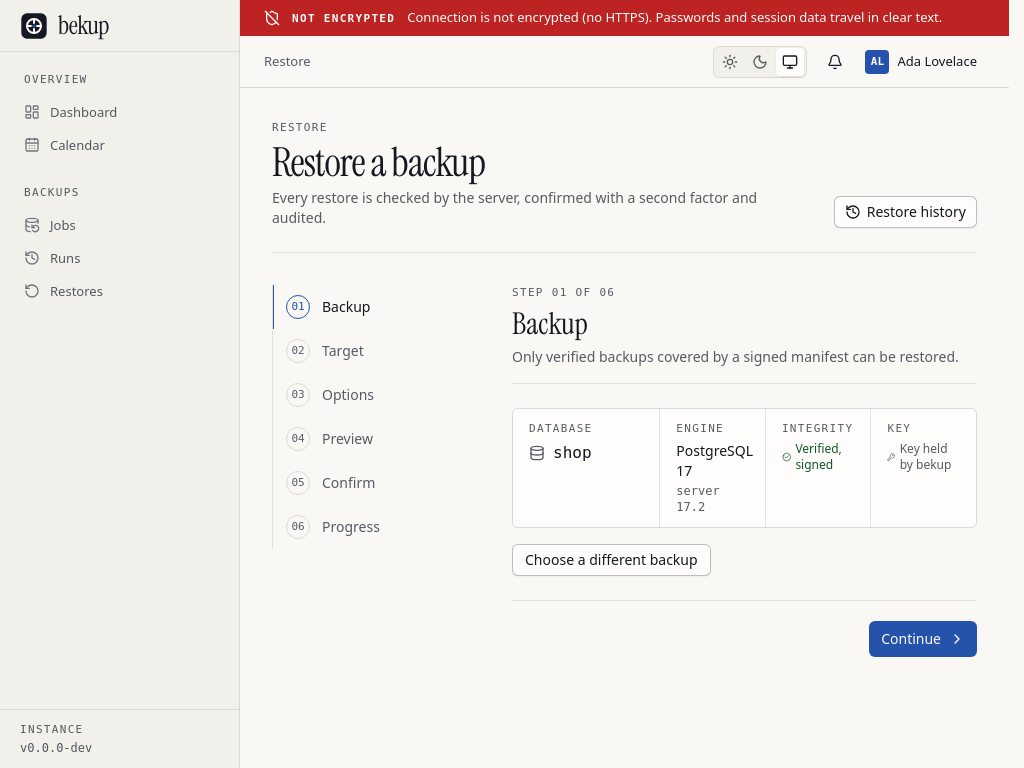
Scenario: restore wizard › shows owners only their allowed targets, without temporary connections
The image size is (1024, 768).
Expected: the text "shop" is shown, [553, 440, 592, 464]
Click the button "Continue" at x=923, y=638, box [869, 620, 977, 656]
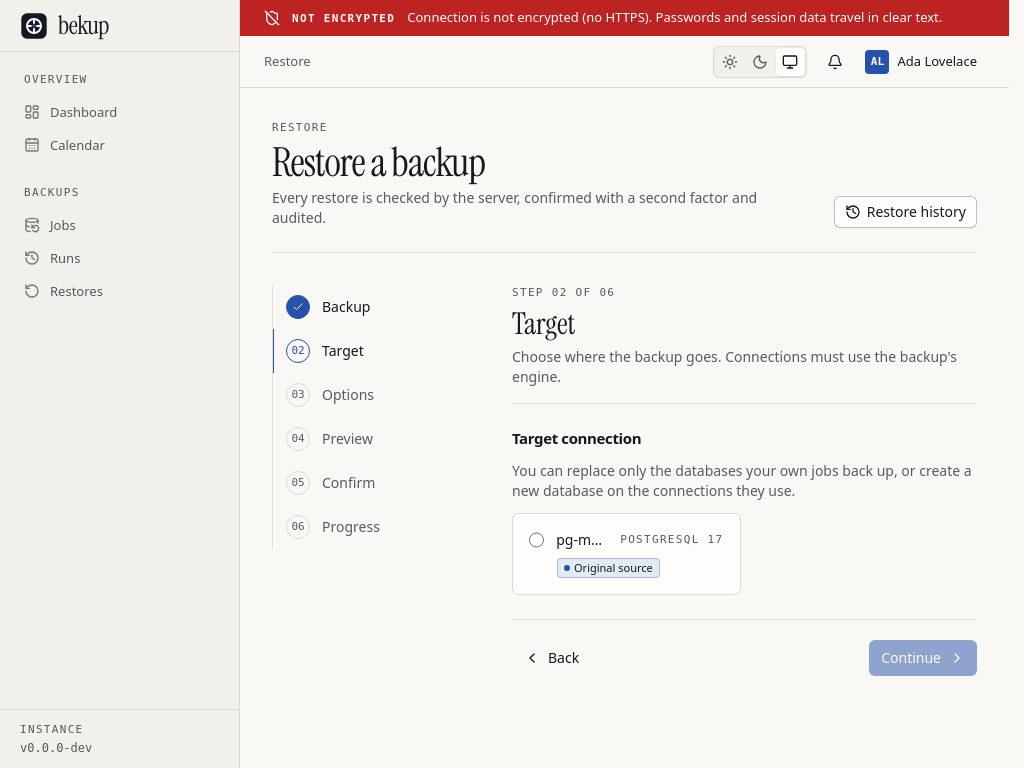
Expected: the heading "Target" is shown, [512, 304, 575, 343]
Expected: the number of radio buttons labelled "pg-main PostgreSQL 17 Original source" is 1, [529, 532, 544, 548]
Expected: the text "only the databases your own jobs back up" is shown, [512, 461, 972, 500]
